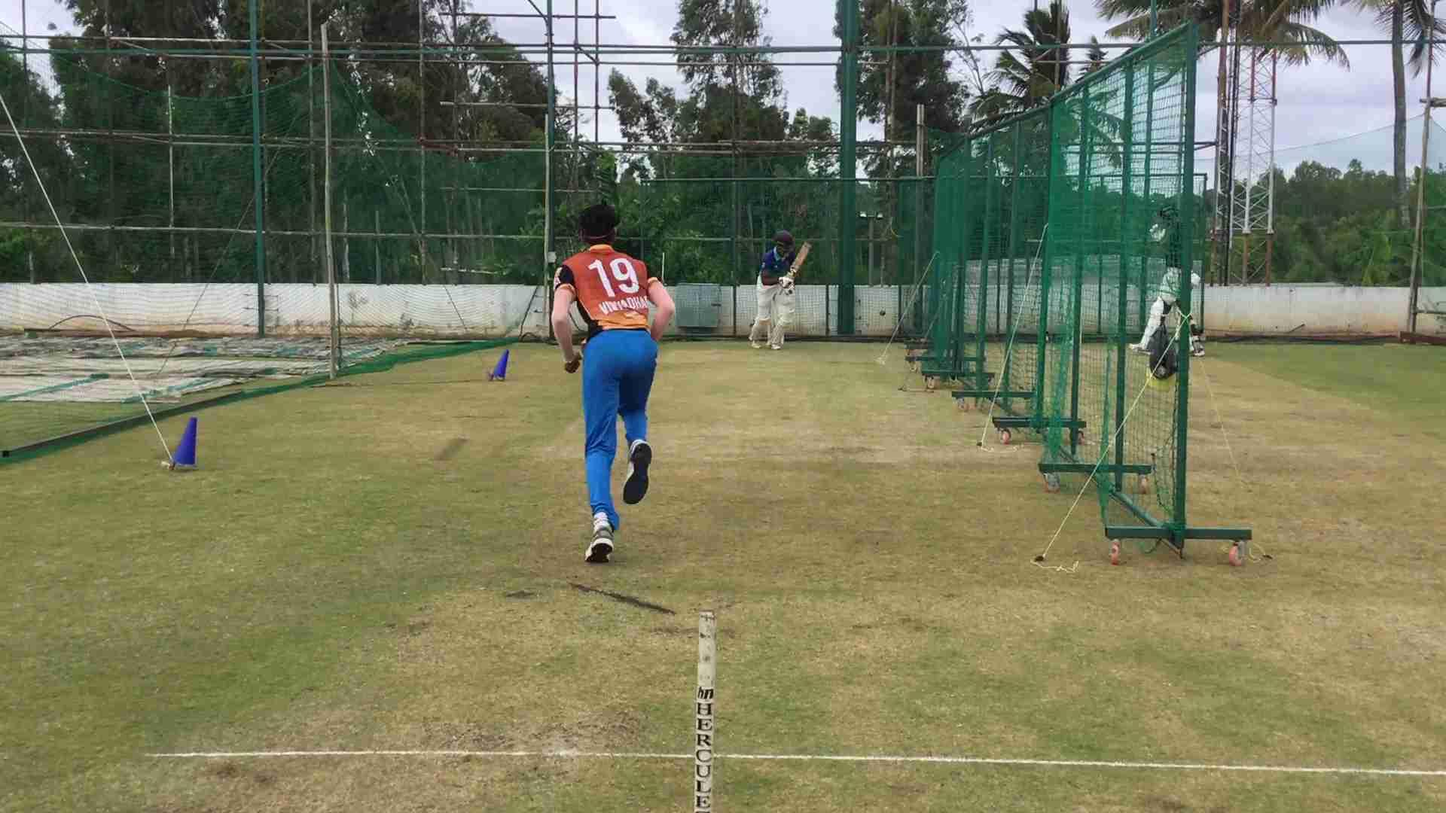batsman: (744, 228, 798, 353)
